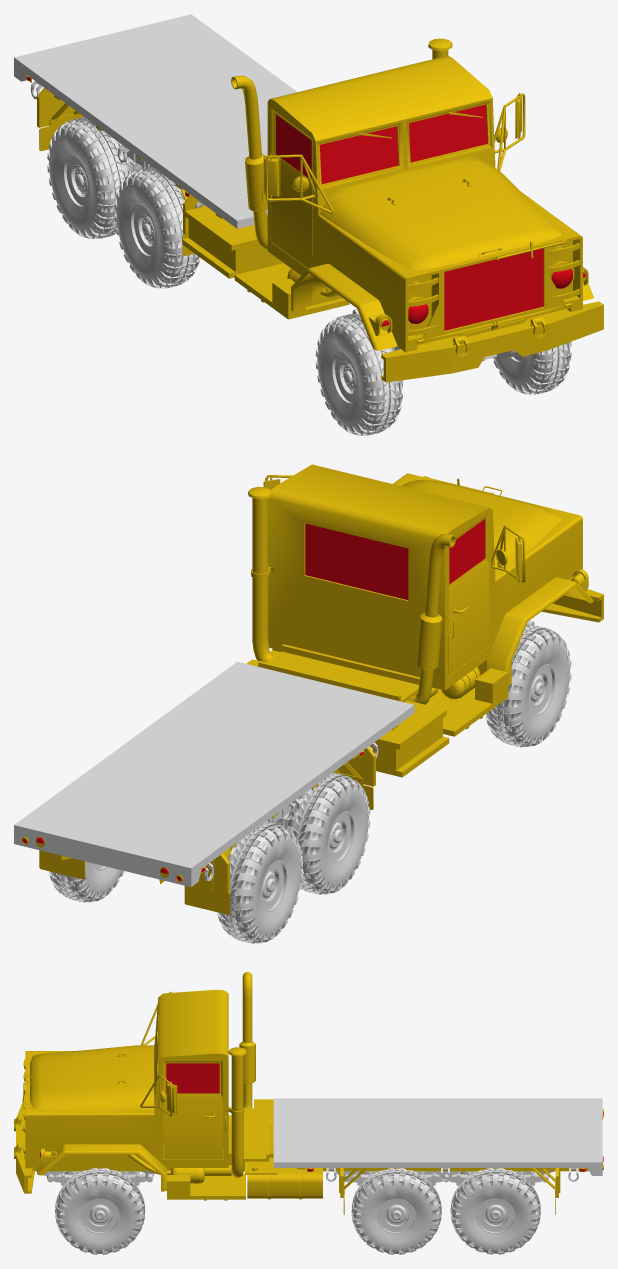
File: MilitaryTruckFlatbed.fbx
3 renders of one model, top to bottom at view 1: azimuth 30°, elevation 25°; view 2: azimuth 150°, elevation 25°; view 3: azimuth 270°, elevation 25°, orthographic. The views are drawn at different scales.
Visible parts, largest first — view 1: TruckVoorkant, Achterkant Flatbed, Cube.004, TruckOnderkant, Cube.006, Cube.005; view 2: TruckVoorkant, Achterkant Flatbed, TruckOnderkant, Cube.006, Cube.005, Cube.004; view 3: TruckVoorkant, Achterkant Flatbed, TruckOnderkant, Cube.006, Cube.004, Cube.005, Veringen.
Boxes of the visible parts, <box> form: TruckVoorkant: <box>231,38,603,382</box>; Achterkant Flatbed: <box>14,14,297,228</box>; Cube.004: <box>315,314,571,435</box>; TruckOnderkant: <box>26,75,349,319</box>; Cube.006: <box>47,117,132,238</box>; Cube.005: <box>114,166,200,288</box>; TruckVoorkant: <box>248,464,603,704</box>; Achterkant Flatbed: <box>14,661,414,886</box>; TruckOnderkant: <box>21,644,508,914</box>; Cube.006: <box>48,822,303,943</box>; Cube.005: <box>285,773,370,894</box>; Cube.004: <box>485,625,571,747</box>; TruckVoorkant: <box>14,972,255,1193</box>; Achterkant Flatbed: <box>273,1098,602,1181</box>; TruckOnderkant: <box>32,1099,603,1214</box>; Cube.006: <box>450,1168,540,1254</box>; Cube.004: <box>55,1167,145,1254</box>; Cube.005: <box>351,1168,441,1254</box>; Veringen: <box>36,1171,554,1185</box>.
Bounding box in the file's own units: 294 × 309 × 785.
